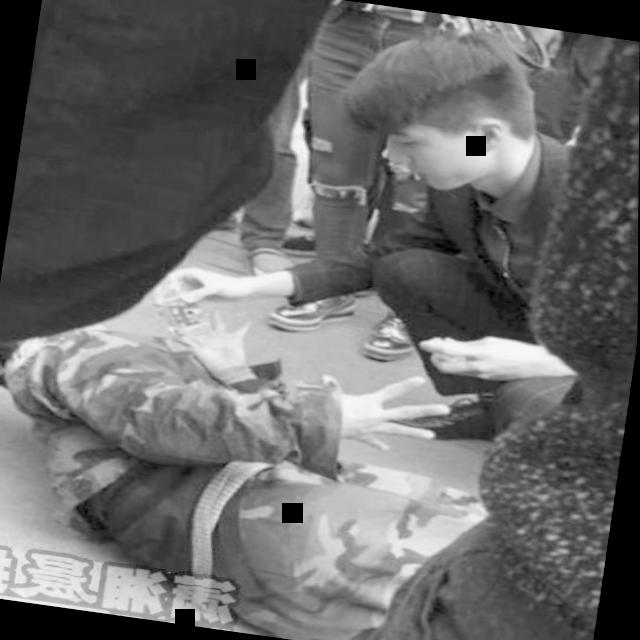Fall-Detected: (0, 277, 539, 640)
